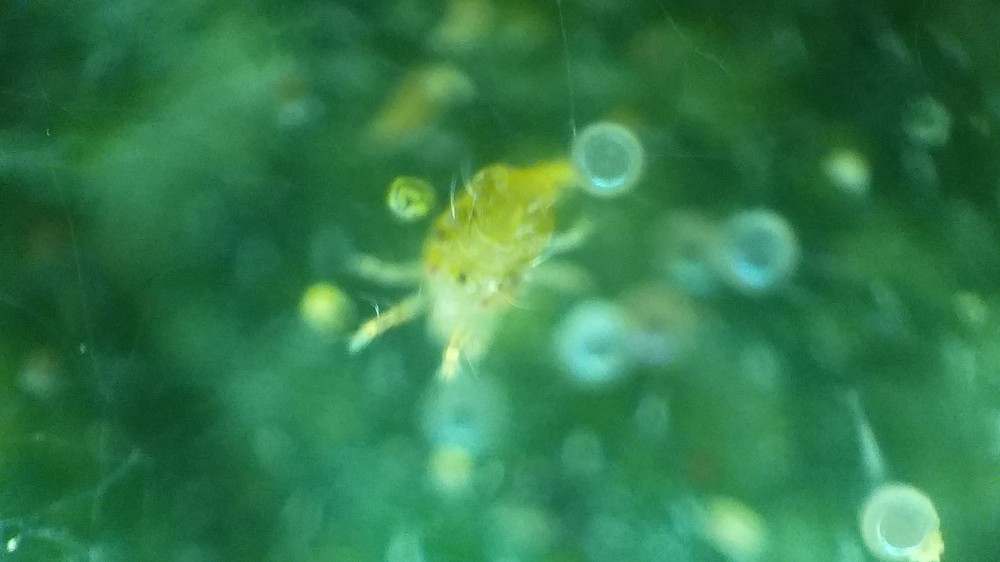Aracnido Rojo: (348, 146, 579, 405)
